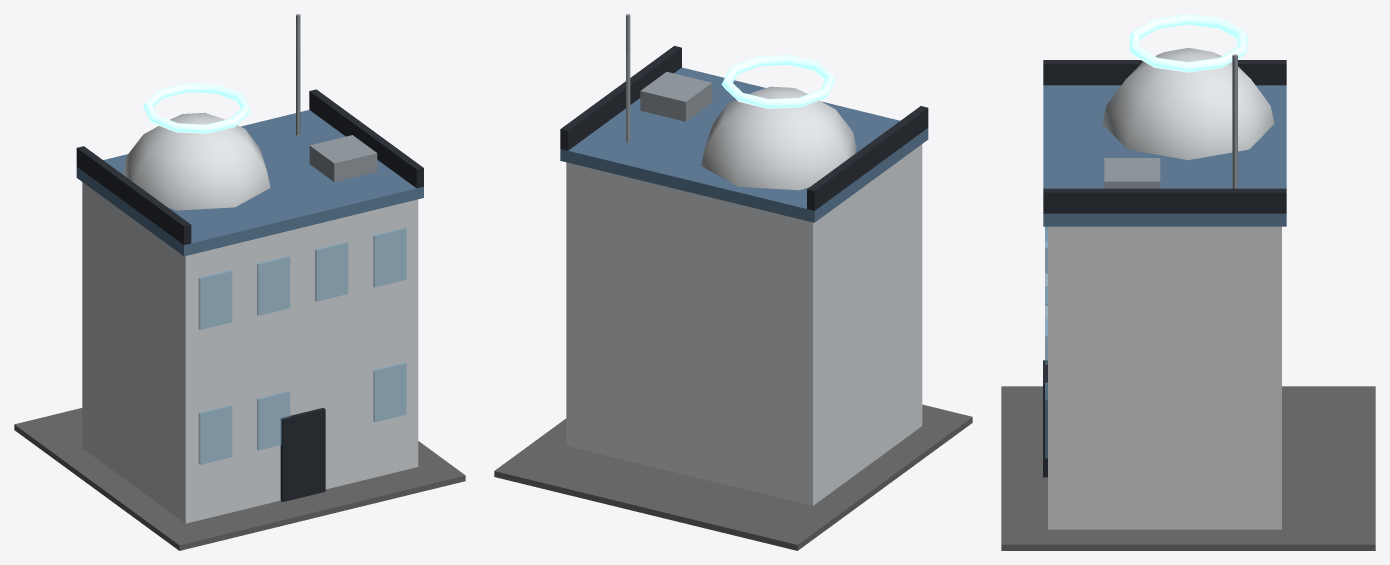
File: bld_special_laboratory_a09_lod1.glb
3 renders of one model, left to right at view 1: azimuth 30°, elevation 25°; view 2: azimuth 150°, elevation 25°; view 3: azimuth 270°, elevation 25°, orthographic. The views are drawn at different scales.
Visible parts, largest first — view 1: body; view 2: body; view 3: body.
Boxes of the visible parts, x1,y1,x2,y2 form: body: [14, 14, 465, 550]; body: [494, 14, 972, 550]; body: [1001, 14, 1375, 550].
Bounding box in the file's own units: 8 × 10.85 × 8.
